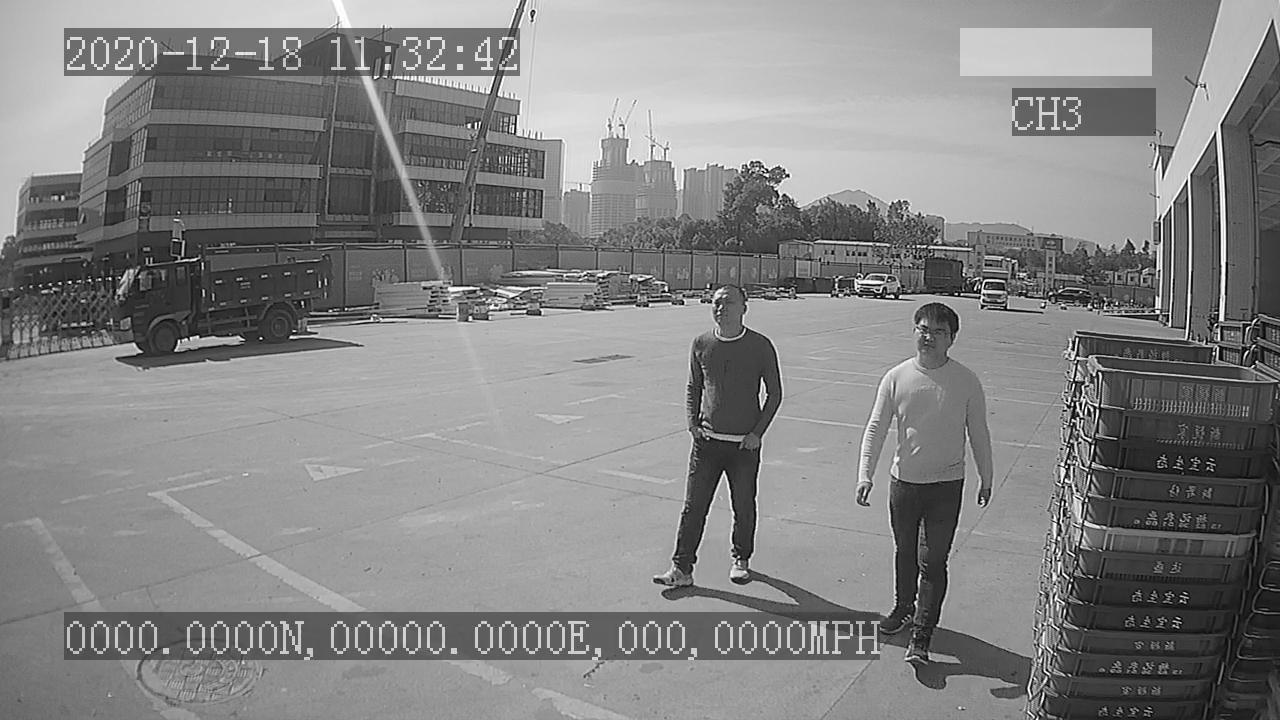person: (649, 282, 788, 591)
